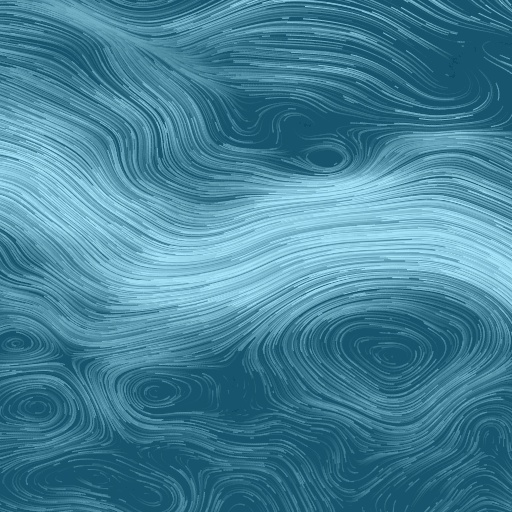eddy: (314, 303, 464, 404), (2, 382, 65, 434), (123, 370, 193, 411), (305, 140, 354, 173), (1, 326, 45, 358), (72, 461, 116, 493)
